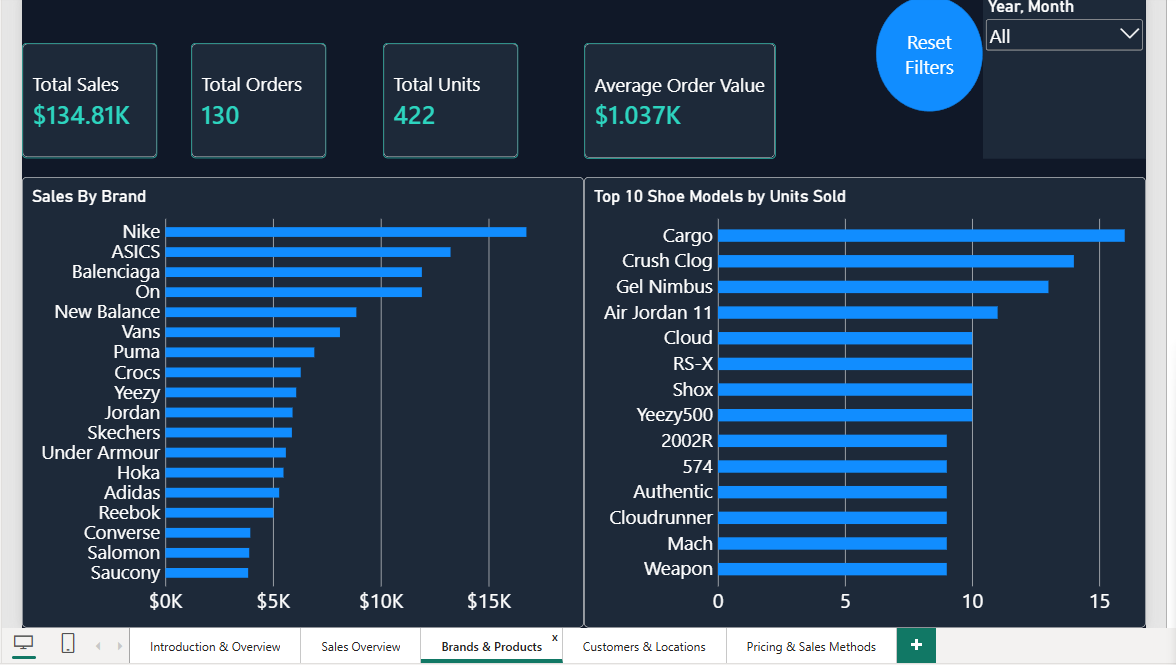

The dashboard page shown, as its layout file describes it:
{"tool":"powerbi","page":{"name":"Brands & Products","canvas":[1920,1080],"ordinal":2},"visuals":[{"type":"cardVisual","fields":{"Data":["Orders.Total Sales"]},"box":[0,81,231.3,196.6],"z":0},{"type":"cardVisual","fields":{"Data":["Orders.Total Orders"]},"box":[289.2,81,231.3,196.6],"z":1000},{"type":"cardVisual","fields":{"Data":["Orders.Total Units"]},"box":[617.5,80,231.3,196.6],"z":2000},{"type":"slicer","fields":{"Values":["DimDate.Year","DimDate.Month"]},"box":[1642.4,0,277.6,277.6],"z":3000},{"type":"cardVisual","fields":{"Data":["Orders.Average Order Value"]},"box":[960,80,327.5,197.5],"z":4000},{"type":"clusteredBarChart","title":"Sales By Brand","fields":{"Category":["Brands.BrandName"],"Y":["Orders.Total Sales"]},"box":[0,310,960,770],"z":5000},{"type":"clusteredBarChart","title":"Top 10 Shoe Models by Units Sold","fields":{"Category":["Shoes.ShoeModel"],"Y":["Orders.Total Units"]},"box":[960,310,960,770],"z":6000},{"type":"shape","box":[1460,0,182.5,197.5],"z":7000}]}

Visuals, with their boxes on the page's 1920x1080 design canvas (x1, y1, x2, y2). These are canvas units, not pixel positions in the 1176x665 screenshot, which may show the page scaled, cropped or inside an application window:
cardVisual - Orders.Total Sales: [x1=0, y1=81, x2=231, y2=278]
cardVisual - Orders.Total Orders: [x1=289, y1=81, x2=520, y2=278]
cardVisual - Orders.Total Units: [x1=618, y1=80, x2=849, y2=277]
slicer - DimDate.Year x DimDate.Month: [x1=1642, y1=0, x2=1920, y2=278]
cardVisual - Orders.Average Order Value: [x1=960, y1=80, x2=1288, y2=278]
"Sales By Brand" clusteredBarChart: [x1=0, y1=310, x2=960, y2=1080]
"Top 10 Shoe Models by Units Sold" clusteredBarChart: [x1=960, y1=310, x2=1920, y2=1080]
shape: [x1=1460, y1=0, x2=1642, y2=198]
